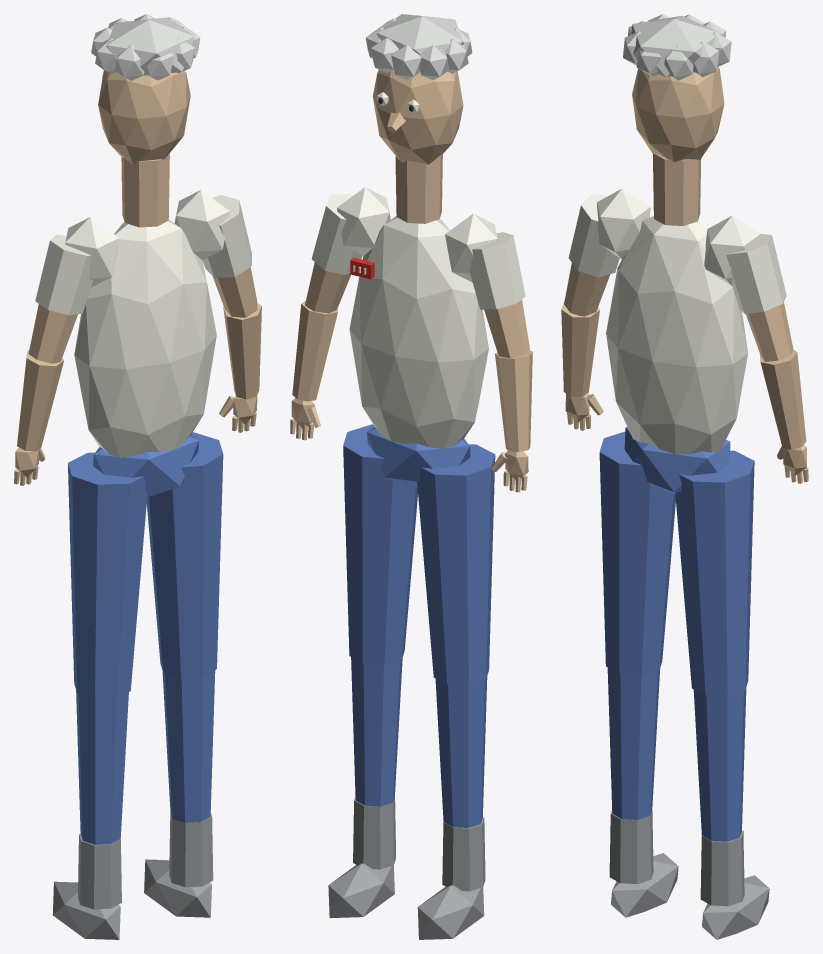
The model's file is OutfitStoreGrandma.fbx.
3 views of the same model, side by side, from view 1: azimuth 30°, elevation 25°; view 2: azimuth 150°, elevation 25°; view 3: azimuth 330°, elevation 25° (orthographic). The views are drawn at different scales.
Visible parts, largest first — view 1: Torso, ThighLeft, ThighRight, CalfLeft, Face, CalfRight, SleeveLeft, Neck, Waist, HairTop, ForearmSkinLeft, BootTopLeft (+12 smaller); view 2: Torso, ThighLeft, ThighRight, CalfLeft, CalfRight, Face, SleeveLeft, ForearmSkinLeft, Waist, ForearmSkinRight, Neck, FootRight (+14 smaller); view 3: Torso, ThighRight, ThighLeft, CalfRight, Face, CalfLeft, SleeveRight, Neck, Waist, ForearmSkinRight, BootTopRight, BootTopLeft (+13 smaller).
Part boxes in pixels (left/top/right/bottom): Torso: left=74, top=219, right=216, bottom=458; ThighLeft: left=68, top=452, right=147, bottom=698; ThighRight: left=146, top=432, right=223, bottom=678; CalfLeft: left=76, top=690, right=128, bottom=844; Face: left=98, top=70, right=190, bottom=164; CalfRight: left=162, top=670, right=215, bottom=822; SleeveLeft: left=35, top=234, right=93, bottom=315; Neck: left=121, top=154, right=169, bottom=227; Waist: left=93, top=435, right=198, bottom=497; HairTop: left=106, top=17, right=194, bottom=75; ForearmSkinLeft: left=17, top=350, right=64, bottom=451; BootTopLeft: left=78, top=833, right=121, bottom=909; Torso: left=349, top=216, right=488, bottom=449; ThighLeft: left=417, top=444, right=495, bottom=684; ThighRight: left=343, top=424, right=417, bottom=665; CalfLeft: left=435, top=676, right=487, bottom=827; CalfRight: left=351, top=657, right=402, bottom=806; Face: left=372, top=69, right=463, bottom=164; SleeveLeft: left=469, top=232, right=525, bottom=309; ForearmSkinLeft: left=495, top=350, right=532, bottom=451; Waist: left=367, top=426, right=470, bottom=487; ForearmSkinRight: left=292, top=300, right=337, bottom=401; Neck: left=395, top=154, right=442, bottom=223; FootRight: left=328, top=863, right=394, bottom=918; Torso: left=606, top=216, right=747, bottom=454; ThighRight: left=675, top=450, right=754, bottom=695; ThighLeft: left=599, top=431, right=675, bottom=676; CalfRight: left=693, top=688, right=746, bottom=841; Face: left=632, top=67, right=724, bottom=161; CalfLeft: left=607, top=668, right=660, bottom=819; SleeveRight: left=726, top=233, right=786, bottom=313; Neck: left=653, top=153, right=700, bottom=225; Waist: left=624, top=427, right=730, bottom=494; ForearmSkinRight: left=759, top=350, right=806, bottom=449; BootTopRight: left=700, top=830, right=744, bottom=906; BootTopLeft: left=609, top=810, right=653, bottom=883.
Size of the model in its own units: 0.4823 by 1.75 by 0.2244.
